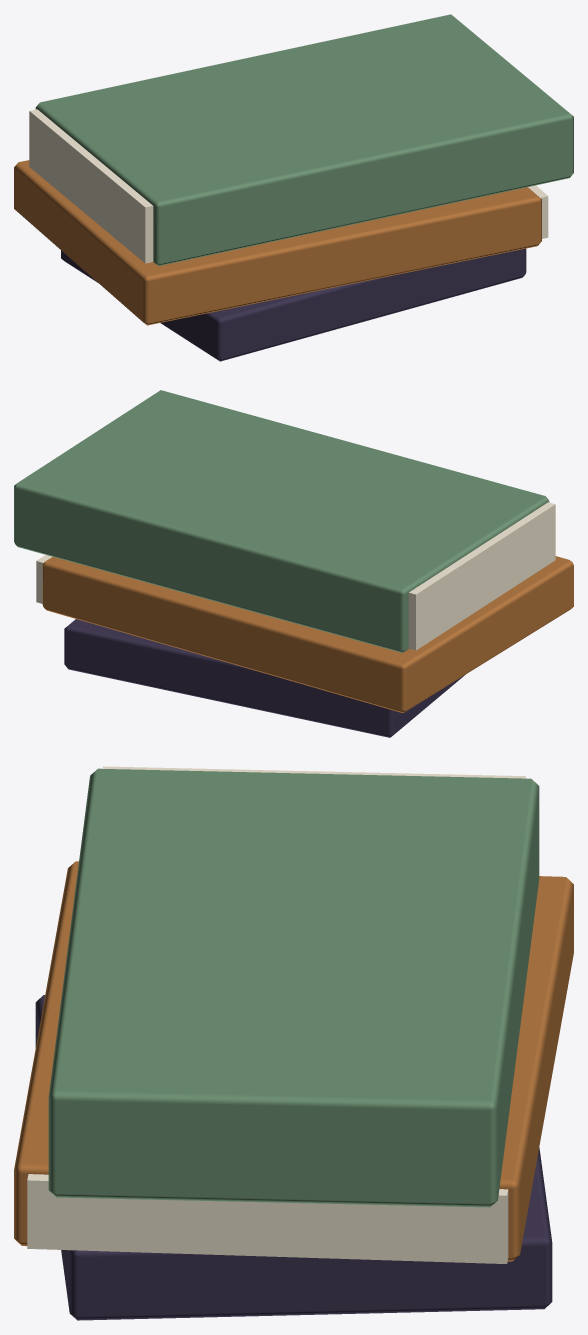
The model's file is book_stack_floor.fbx.
3 views of the same model, one above another, from view 1: azimuth 30°, elevation 25°; view 2: azimuth 150°, elevation 25°; view 3: azimuth 270°, elevation 25° (orthographic). The views are drawn at different scales.
Parts seen in each view (by area): view 1: book_stack_floor; view 2: book_stack_floor; view 3: book_stack_floor.
Part boxes in pixels (bbox=[...]): book_stack_floor: bbox=[14, 14, 573, 361]; book_stack_floor: bbox=[14, 390, 573, 737]; book_stack_floor: bbox=[14, 766, 573, 1320].
Size of the model in its own units: 0.3175 by 0.1104 by 0.213.
